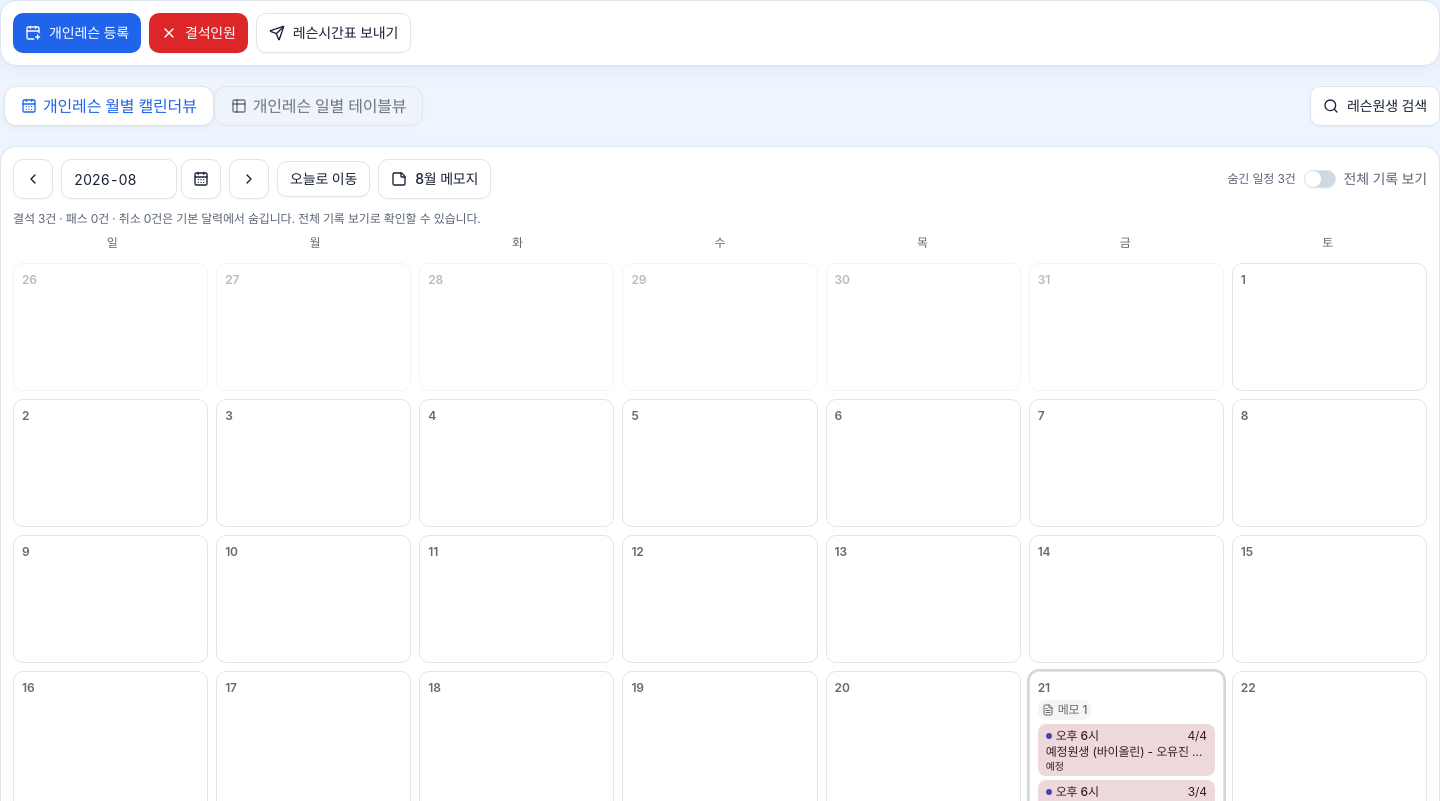
Test case: 개인레슨표 결석인원 › 월을 옮기면 그 달의 결석으로 바뀌고 결석이 없으면 빈 상태를 안내한다
Click the button "결석인원" at (198, 33), box [149,13,248,53]
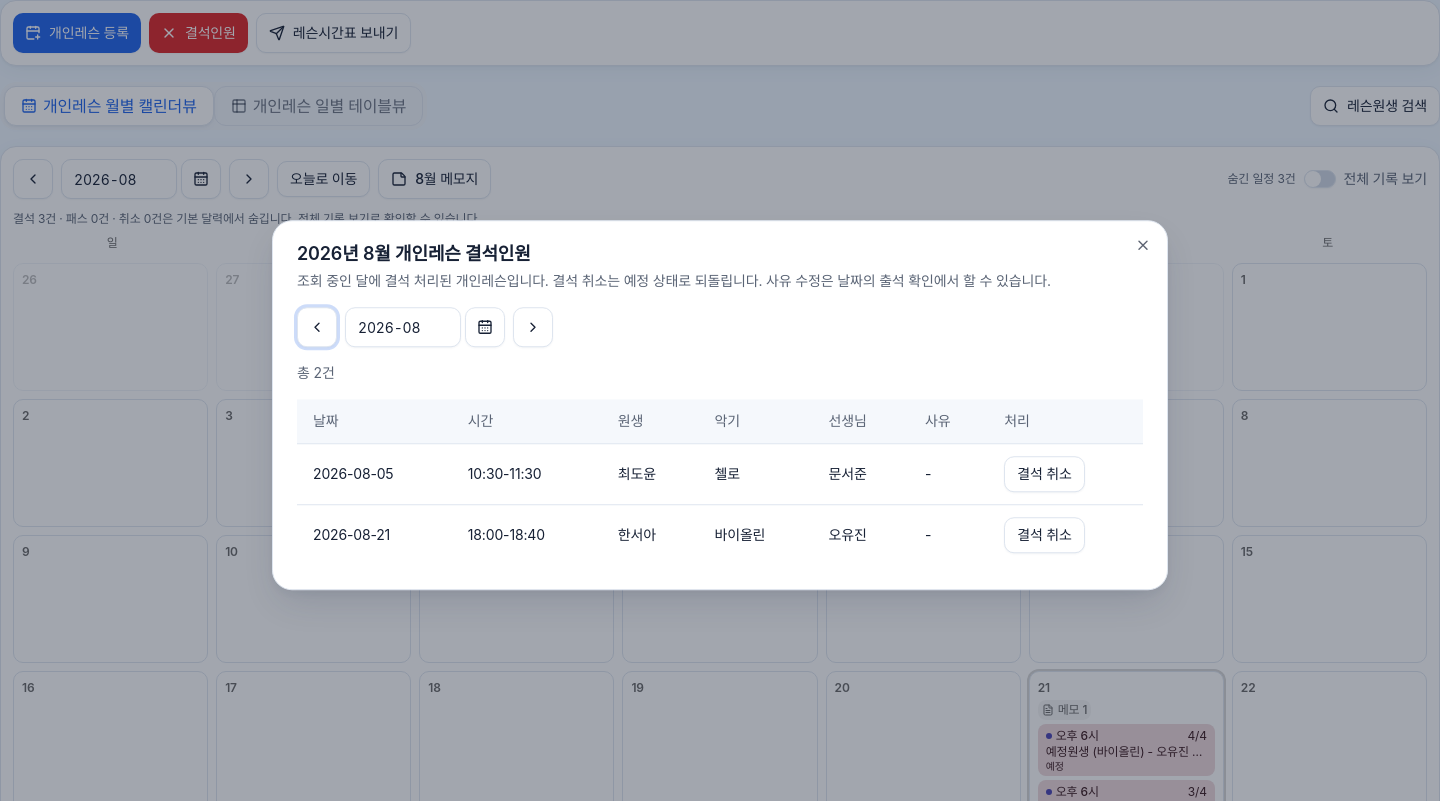
Click the button named "결석인원 다음 달" at (533, 327), box [513,307,553,347]
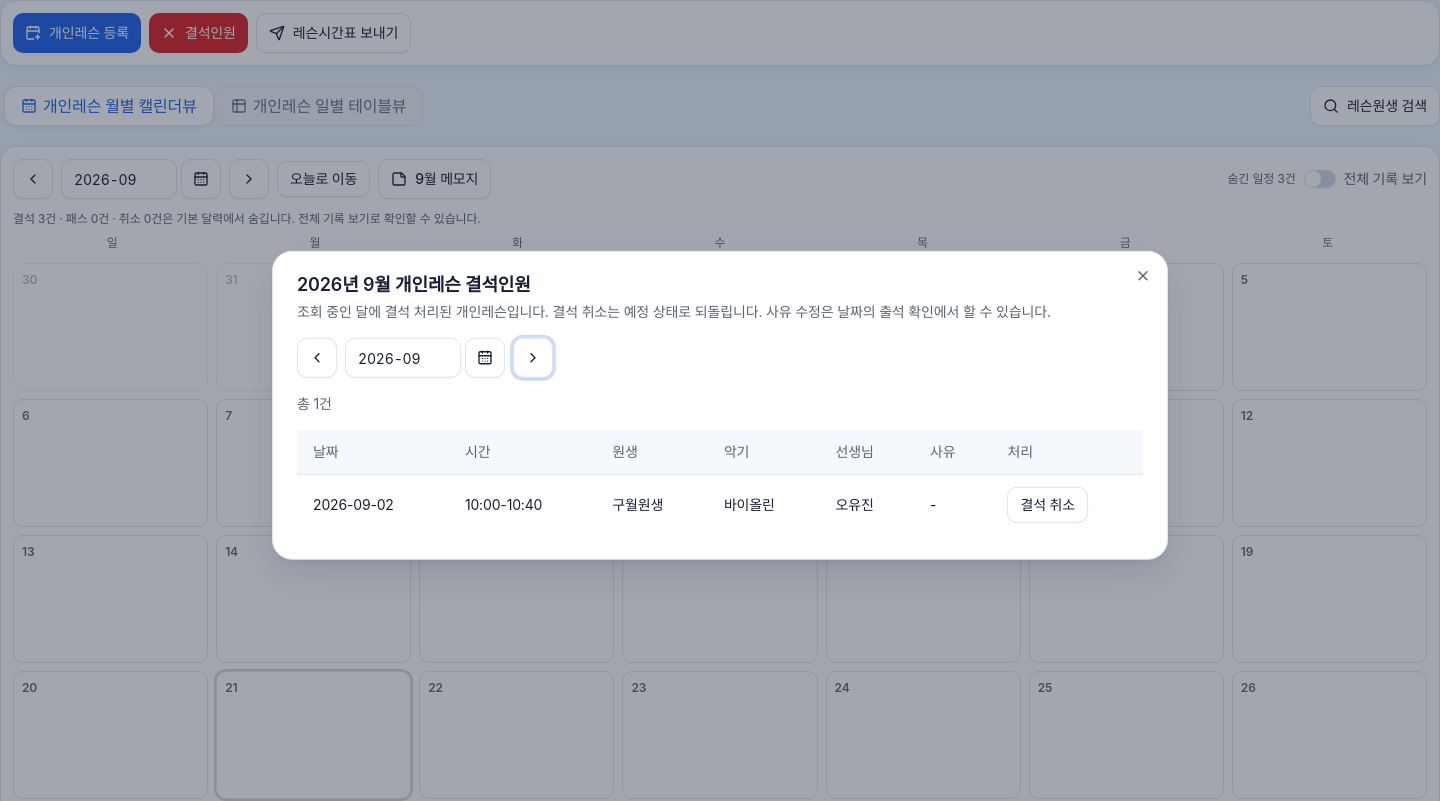
Now the dialog "2026년 9월 개인레슨 결석인원" shows "구월원생", box [612,495,663,512]
Now the dialog "2026년 9월 개인레슨 결석인원" no longer shows "한서아", box [272,251,1168,559]
Click the button named "결석인원 다음 달" at (533, 358), box [513,338,553,378]
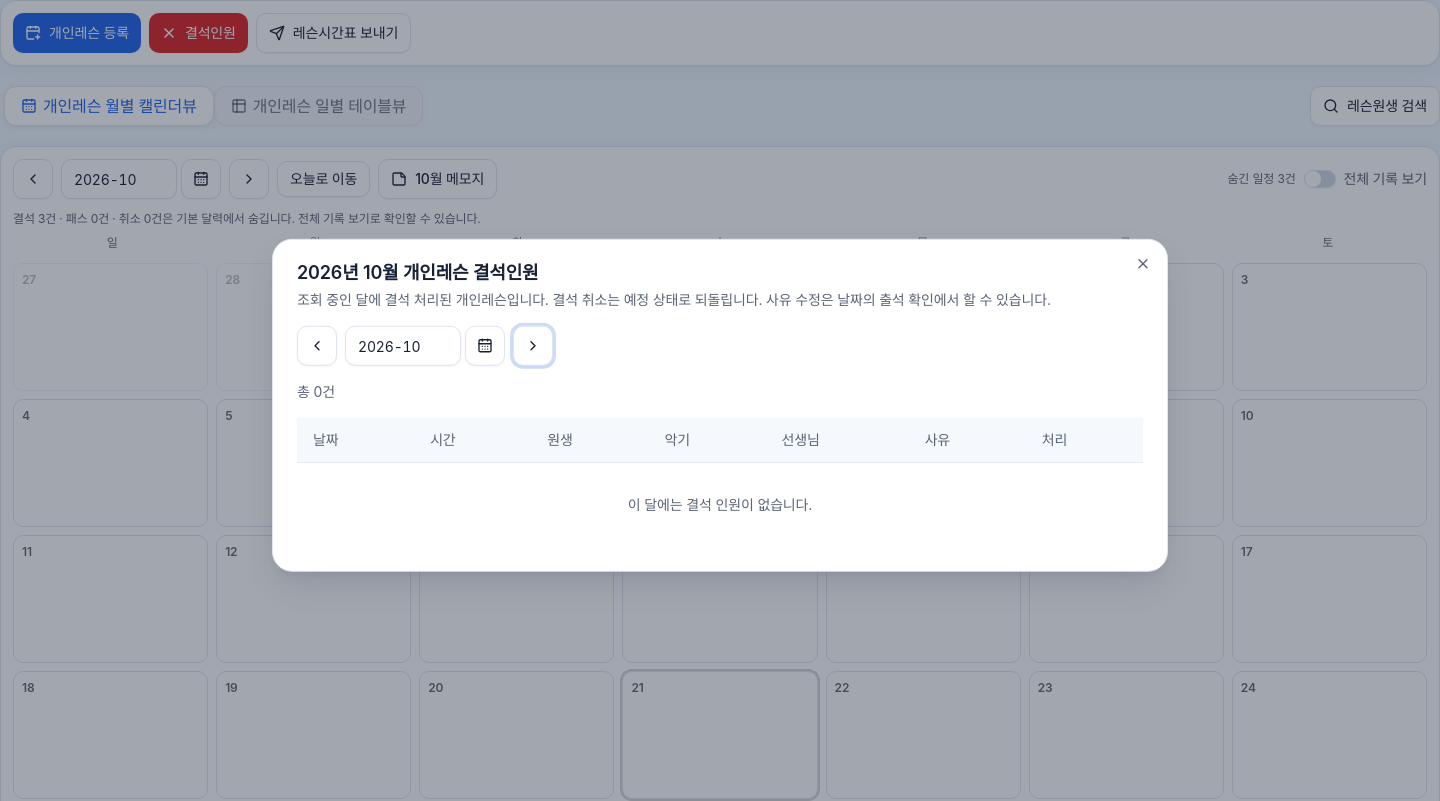
Now the dialog "2026년 10월 개인레슨 결석인원" shows "이 달에는 결석 인원이 없습니다.", box [628,495,812,512]
